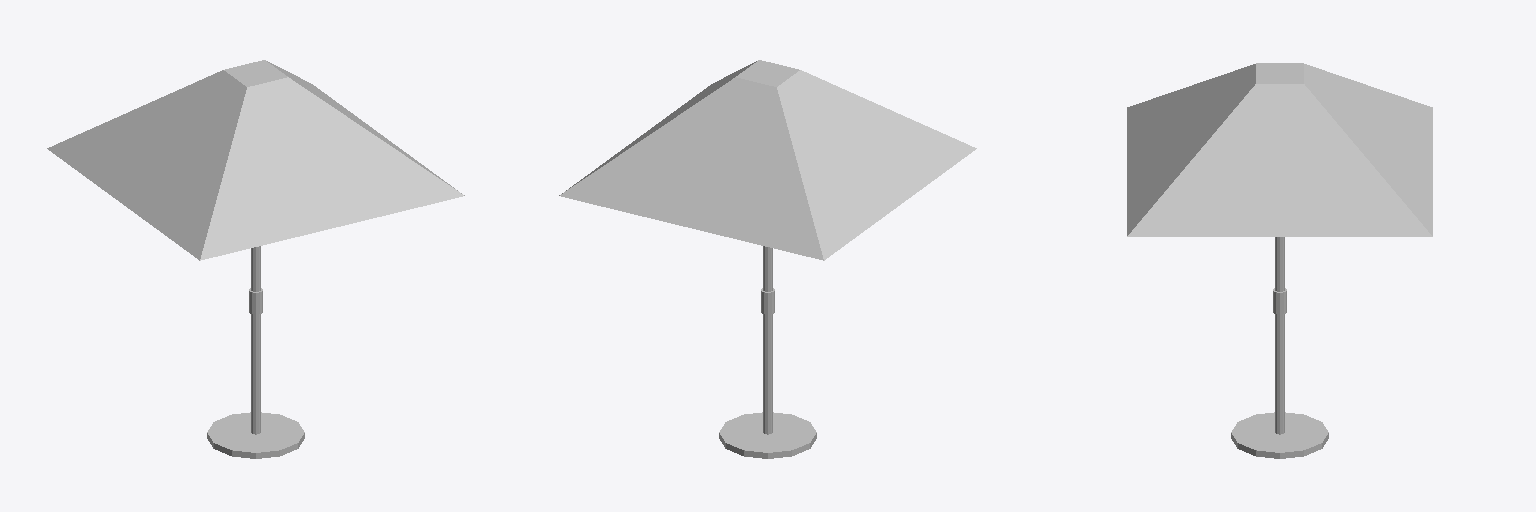
File: 9_CityB_Umbrella_v1.obj
3 views of the same model, side by side, from view 1: azimuth 30°, elevation 25°; view 2: azimuth 150°, elevation 25°; view 3: azimuth 270°, elevation 25° (orthographic).
Visible parts, largest first — view 1: Restaurant_umbrella; view 2: Restaurant_umbrella; view 3: Restaurant_umbrella.
Part boxes in pixels (x1,y1,x2,y2): Restaurant_umbrella: (47, 60, 464, 458); Restaurant_umbrella: (559, 60, 976, 458); Restaurant_umbrella: (1127, 63, 1432, 458).
Bounding box in the file's own units: 3.79 × 4.98 × 3.79.